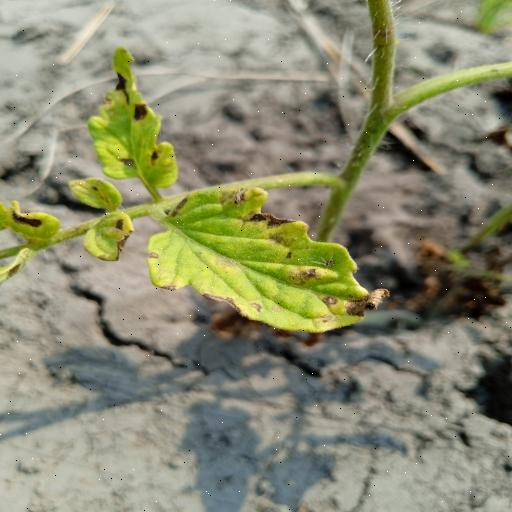Tomato_Brown_Spots: (145, 186, 395, 337), (84, 47, 185, 187)
